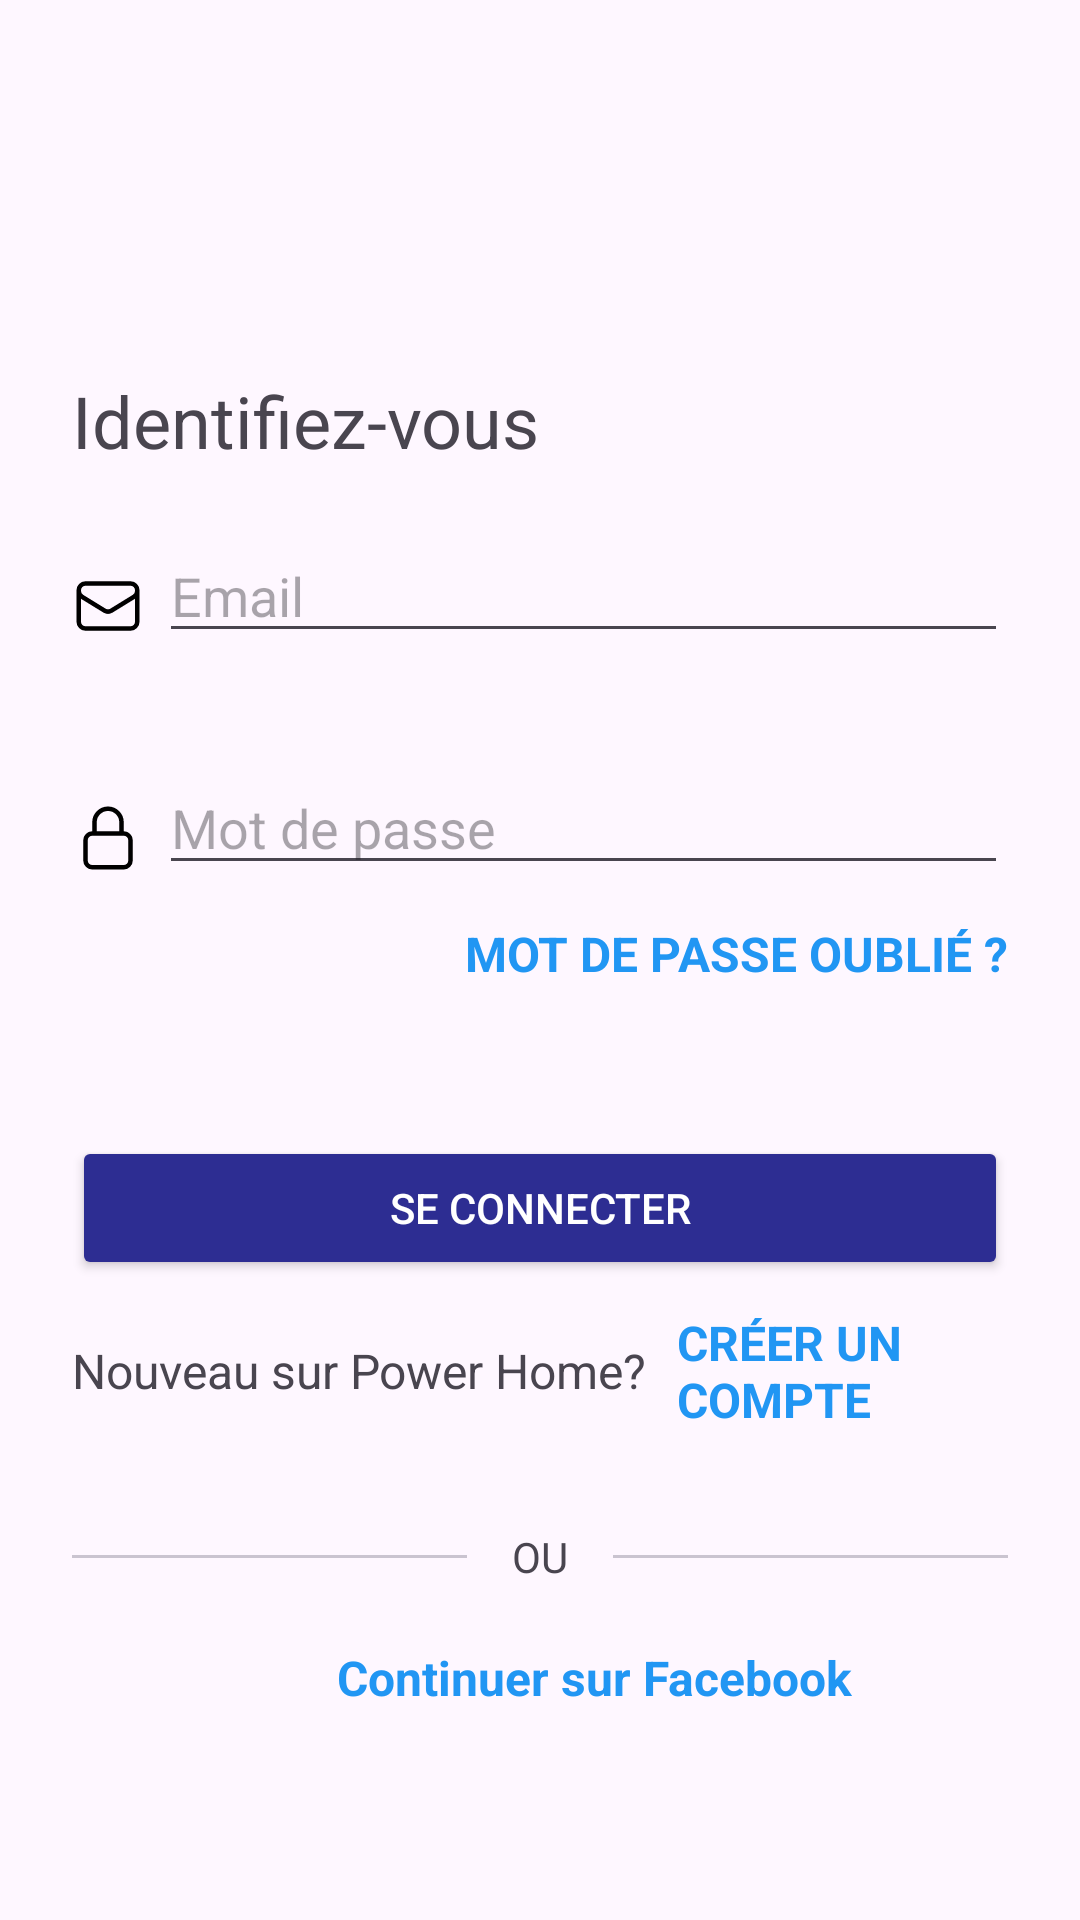

Icons on this 1080x1920 Android screen, each with the point to tap as [x,y]:
lock: [108,838]
